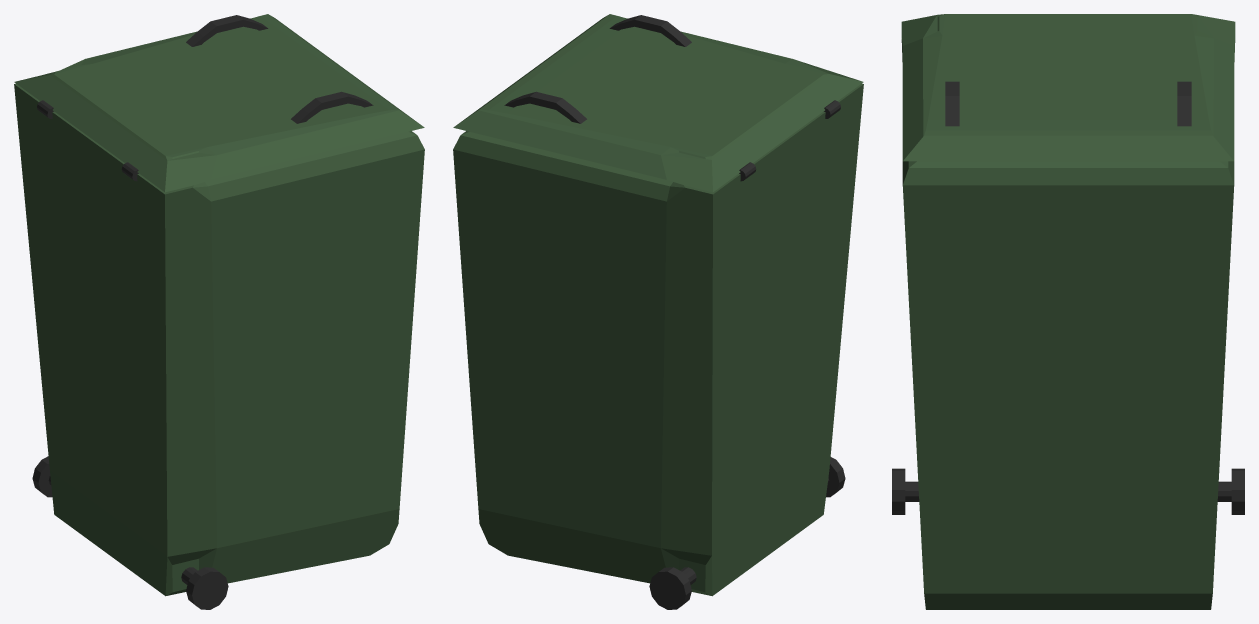
Rendered from Trashcan.fbx.
3 views of the same model, side by side, from view 1: azimuth 30°, elevation 25°; view 2: azimuth 150°, elevation 25°; view 3: azimuth 270°, elevation 25° (orthographic). The views are drawn at different scales.
Parts seen in each view (by area): view 1: Cube, Cube.001, Cube.002, Cylinder.001; view 2: Cube, Cube.001, Cube.002, Cylinder.001; view 3: Cube, Cube.001, Cube.002, Cylinder.001, Cylinder.
Part boxes in pixels (left/top/right/bottom): Cube: left=14, top=83, right=424, bottom=596; Cube.001: left=14, top=14, right=424, bottom=192; Cube.002: left=186, top=15, right=373, bottom=123; Cylinder.001: left=32, top=456, right=228, bottom=609; Cube: left=453, top=83, right=863, bottom=596; Cube.001: left=453, top=14, right=863, bottom=192; Cube.002: left=504, top=15, right=691, bottom=123; Cylinder.001: left=649, top=457, right=845, bottom=609; Cube: left=901, top=38, right=1235, bottom=609; Cube.001: left=901, top=14, right=1235, bottom=161; Cube.002: left=945, top=81, right=1191, bottom=126; Cylinder.001: left=892, top=468, right=1244, bottom=514; Cylinder: left=905, top=481, right=1231, bottom=501.
Size of the model in its own units: 237 by 390 by 247.
